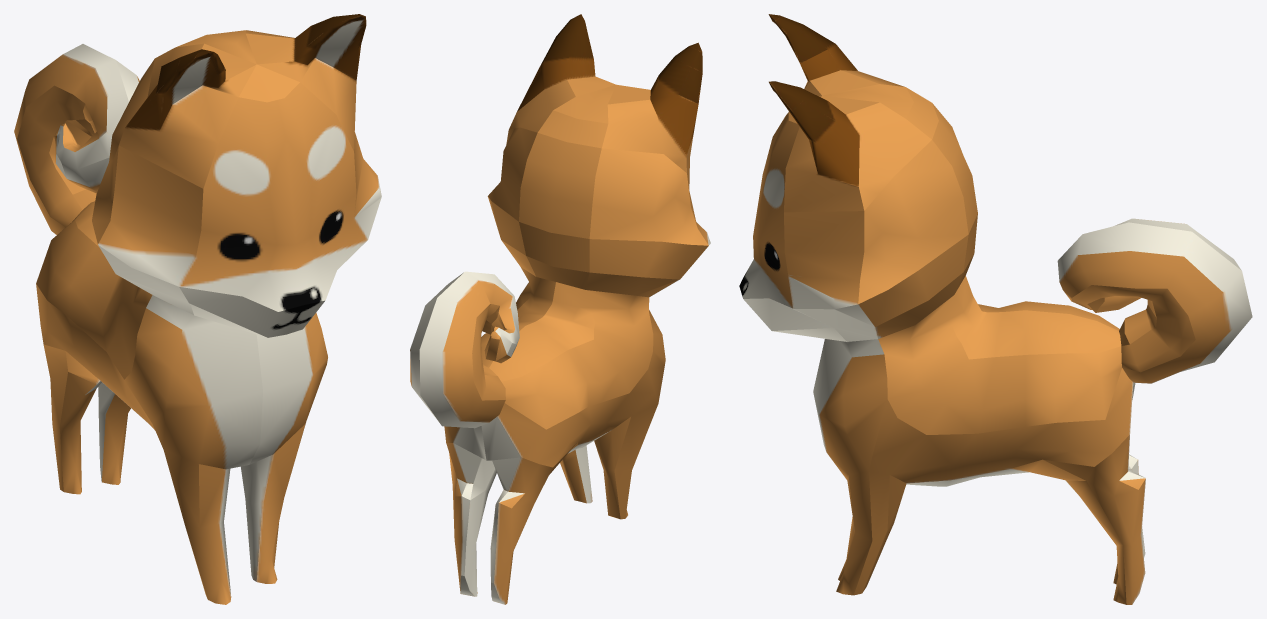
Rendered from tailWagging_frame32.obj.
The picture shows the model from 3 angles, left to right: view 1: azimuth 30°, elevation 25°; view 2: azimuth 150°, elevation 25°; view 3: azimuth 270°, elevation 25°; orthographic projection. The views are drawn at different scales.
Parts seen in each view (by area): view 1: newRigging:BodzL1; view 2: newRigging:BodzL1; view 3: newRigging:BodzL1.
Part boxes in pixels (left/top/right/bottom): newRigging:BodzL1: left=14, top=14, right=381, bottom=604; newRigging:BodzL1: left=410, top=14, right=710, bottom=604; newRigging:BodzL1: left=739, top=14, right=1252, bottom=604.
Size of the model in its own units: 3.91 by 7.95 by 6.81.
1 material, 1 textured.
